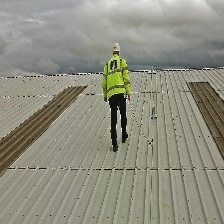helmet: (111, 41, 122, 53)
person: (102, 40, 132, 153)
vest: (105, 54, 129, 105)
